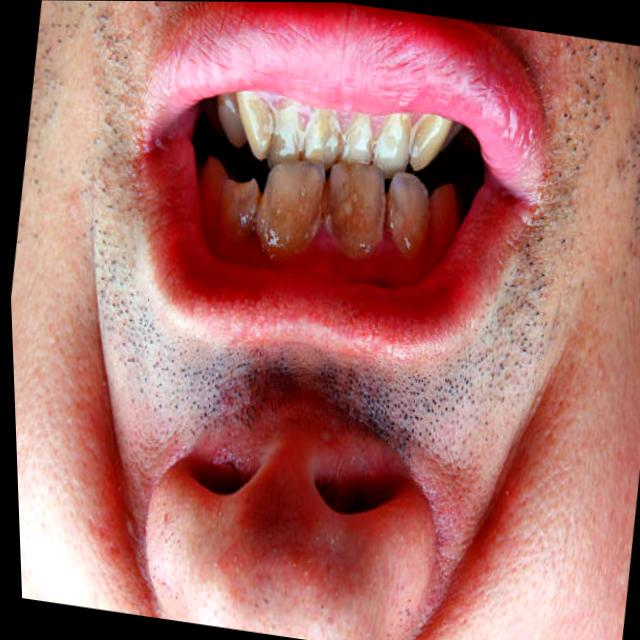tooth-discoloration: (256, 160, 325, 259), (327, 164, 385, 259), (200, 165, 258, 254), (389, 173, 428, 260), (373, 115, 410, 174), (304, 109, 340, 164), (271, 102, 302, 161), (341, 115, 373, 164)
